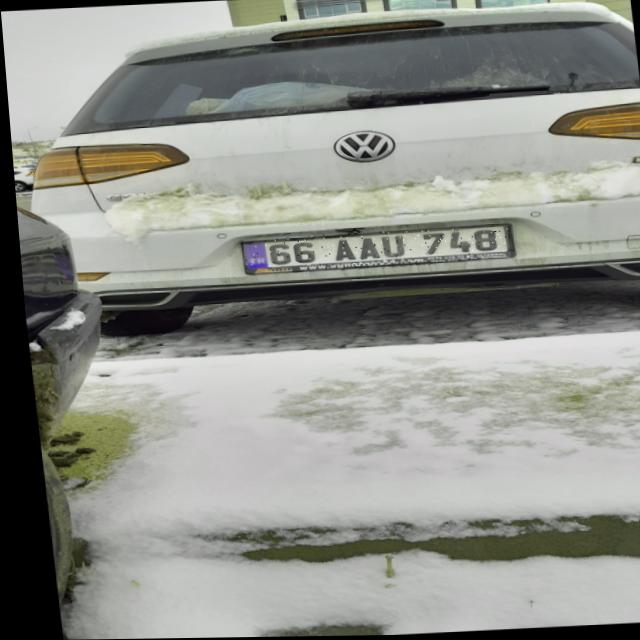license_plate: (237, 226, 509, 269)
